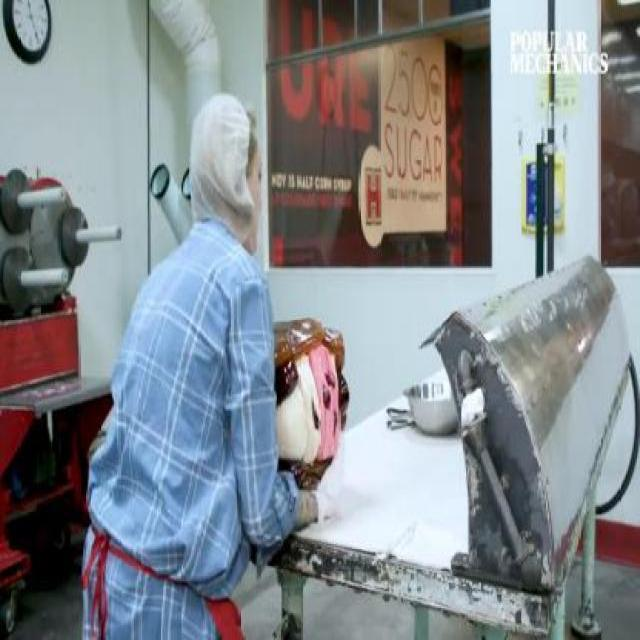gloved_hand: (310, 475, 377, 544)
